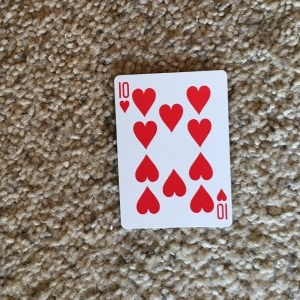card: (111, 70, 233, 230)
